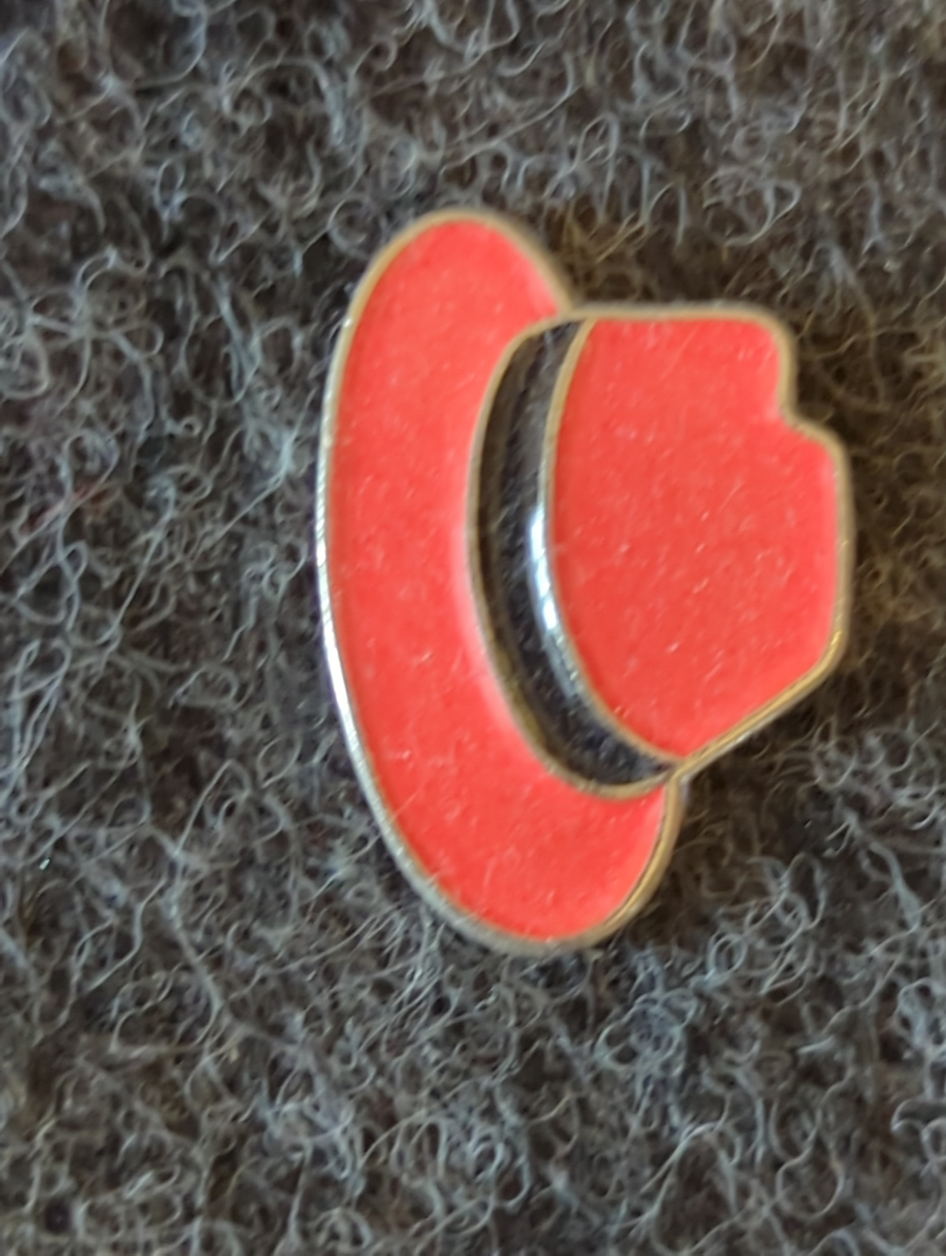Red-Hat: (212, 104, 921, 1028)
